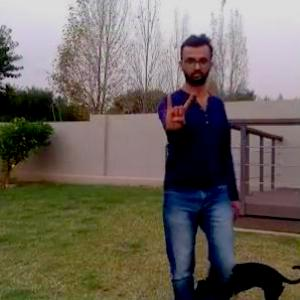takeoff-hand: (160, 80, 196, 135)
